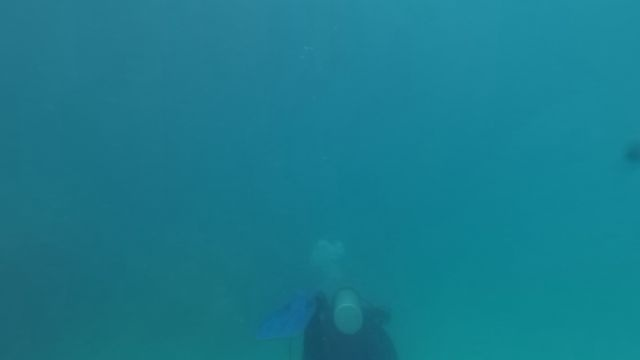Diver: (256, 270, 412, 359)
